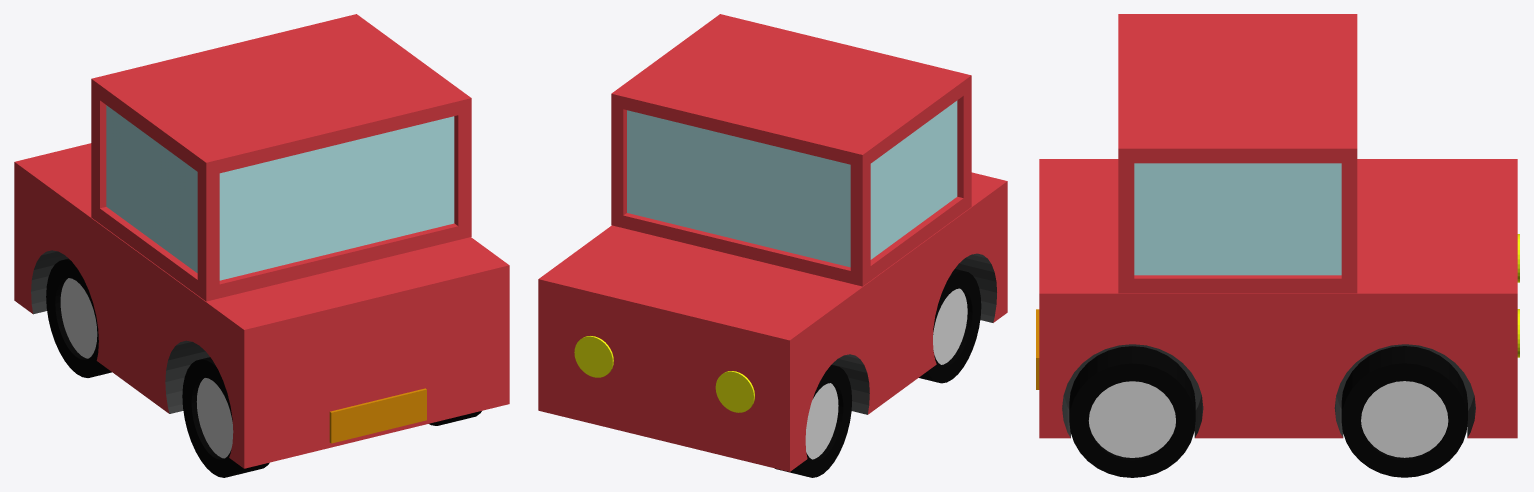
The model's file is NPCcar.glb.
3 views of the same model, side by side, from view 1: azimuth 30°, elevation 25°; view 2: azimuth 150°, elevation 25°; view 3: azimuth 270°, elevation 25° (orthographic). The views are drawn at different scales.
Parts seen in each view (by area): view 1: Chassis, Wheel.001, Wheel, License Plate; view 2: Chassis, Wheel.001, Wheel, Headlight.001, Headlight; view 3: Chassis, Wheel.003, Wheel.002.
Part boxes in pixels (x1,y1,x2,y2): Chassis: (14, 14, 509, 468); Wheel.001: (182, 357, 269, 477); Wheel: (46, 258, 111, 377); License Plate: (329, 388, 426, 443); Chassis: (538, 14, 1007, 471); Wheel.001: (919, 269, 981, 383); Wheel: (775, 365, 852, 477); Headlight.001: (574, 336, 613, 377); Headlight: (715, 371, 754, 412); Chassis: (1039, 14, 1517, 438); Wheel.003: (1069, 346, 1195, 477); Wheel.002: (1341, 346, 1467, 477).
Size of the model in its own units: 4 by 4.6 by 6.07.
